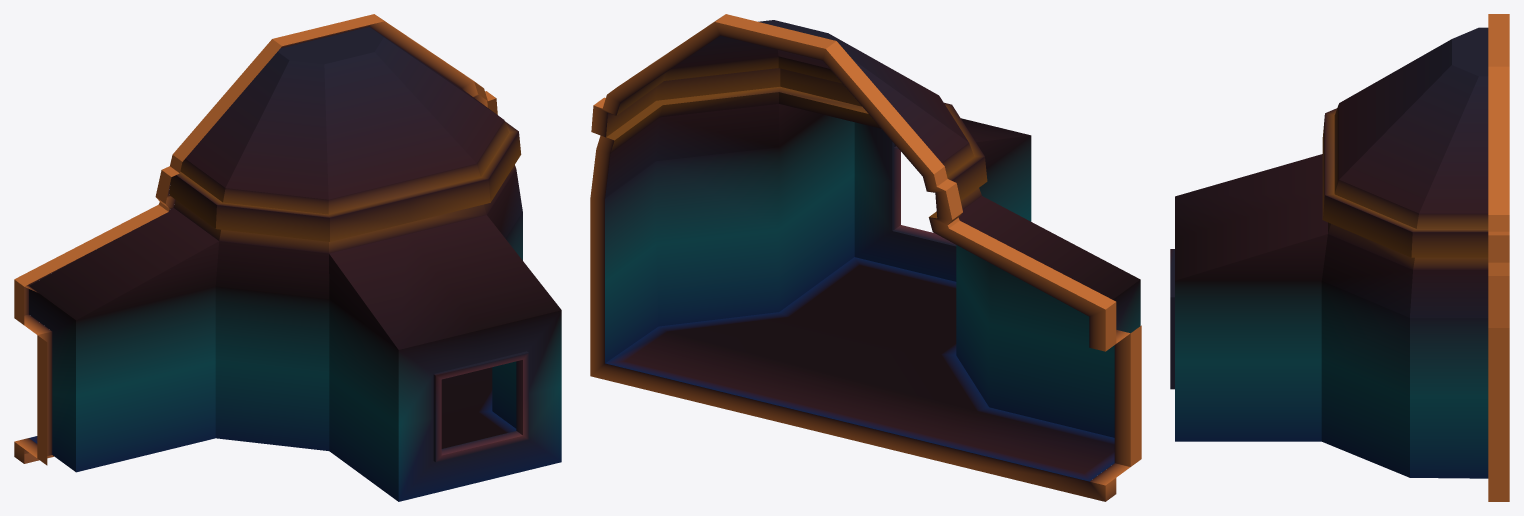
File: Mercona_hut_2_interior.obj
3 views of the same model, side by side, from view 1: azimuth 30°, elevation 25°; view 2: azimuth 150°, elevation 25°; view 3: azimuth 270°, elevation 25° (orthographic). The views are drawn at different scales.
Parts seen in each view (by area): view 1: Mercona_hut_2_interior, Mercona_hut_3_interior.003; view 2: Mercona_hut_2_interior, Mercona_hut_3_interior.003; view 3: Mercona_hut_2_interior, Mercona_hut_3_interior.003.
Boxes of the visible parts, x1=… form: Mercona_hut_2_interior: x1=29, y1=26, x2=561, y2=501; Mercona_hut_3_interior.003: x1=14, y1=14, x2=497, y2=465; Mercona_hut_2_interior: x1=605, y1=20, x2=1140, y2=481; Mercona_hut_3_interior.003: x1=590, y1=14, x2=1141, y2=501; Mercona_hut_2_interior: x1=1170, y1=27, x2=1488, y2=478; Mercona_hut_3_interior.003: x1=1488, y1=14, x2=1509, y2=501.
Size of the model in its own units: 12.15 by 8.67 by 7.09.
